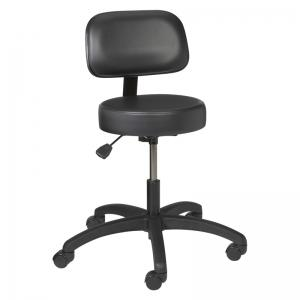chair: (65, 6, 238, 294)
